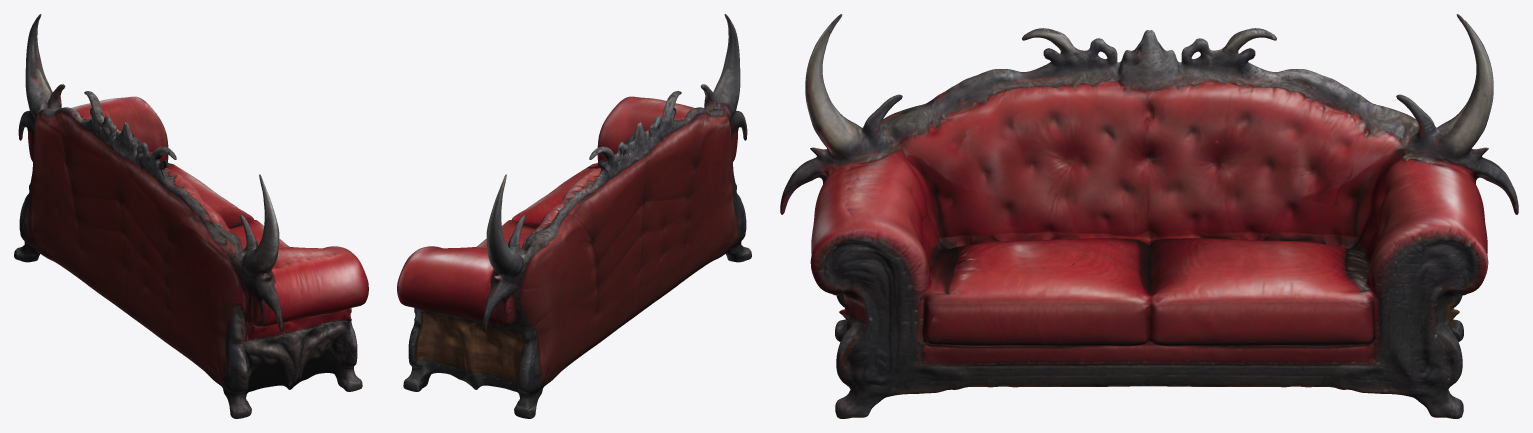
The model's file is Evil_Couch_Mimic_Cou_0613145546_texture.fbx.
3 renders of one model, left to right at view 1: azimuth 30°, elevation 25°; view 2: azimuth 150°, elevation 25°; view 3: azimuth 270°, elevation 25°, orthographic. The views are drawn at different scales.
Parts seen in each view (by area): view 1: Mesh1_Mesh1.018; view 2: Mesh1_Mesh1.018; view 3: Mesh1_Mesh1.018.
Part boxes in pixels (x1,y1,x2,y2): Mesh1_Mesh1.018: [14, 14, 368, 418]; Mesh1_Mesh1.018: [397, 14, 751, 418]; Mesh1_Mesh1.018: [780, 14, 1518, 418].
Size of the model in its own units: 61.9 by 100 by 200.
Materials: 1 (1 with a texture image).
